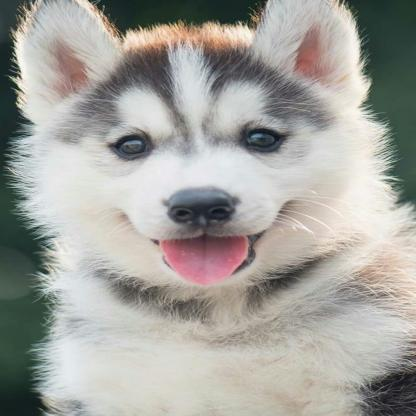husky: (9, 0, 416, 413)
